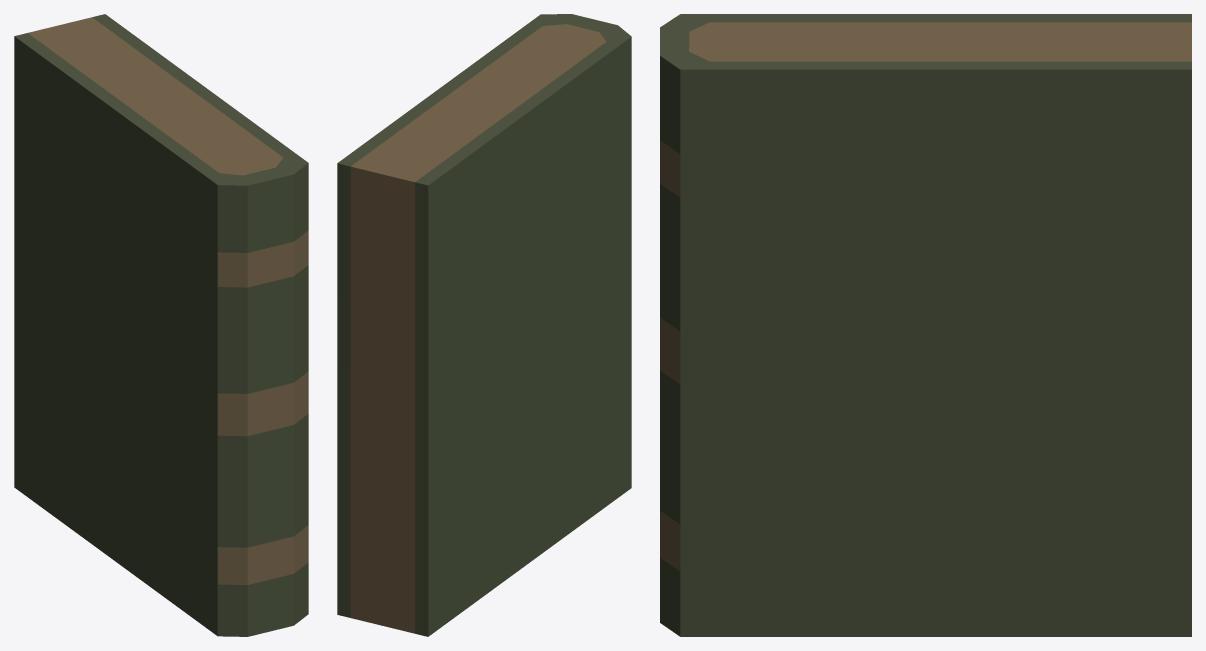
File: dungeon_SM_Prop_Book_01.gltf
The picture shows the model from 3 angles, left to right: view 1: azimuth 30°, elevation 25°; view 2: azimuth 150°, elevation 25°; view 3: azimuth 270°, elevation 25°; orthographic projection. The views are drawn at different scales.
Parts seen in each view (by area): view 1: SM_Prop_Book_01; view 2: SM_Prop_Book_01; view 3: SM_Prop_Book_01.
Part boxes in pixels (x1,y1,x2,y2): SM_Prop_Book_01: (14, 14, 308, 636); SM_Prop_Book_01: (337, 14, 631, 636); SM_Prop_Book_01: (660, 14, 1191, 636).
Size of the model in its own units: 0.074 by 0.3509 by 0.2982.
Materials: 1 (1 with a texture image).
